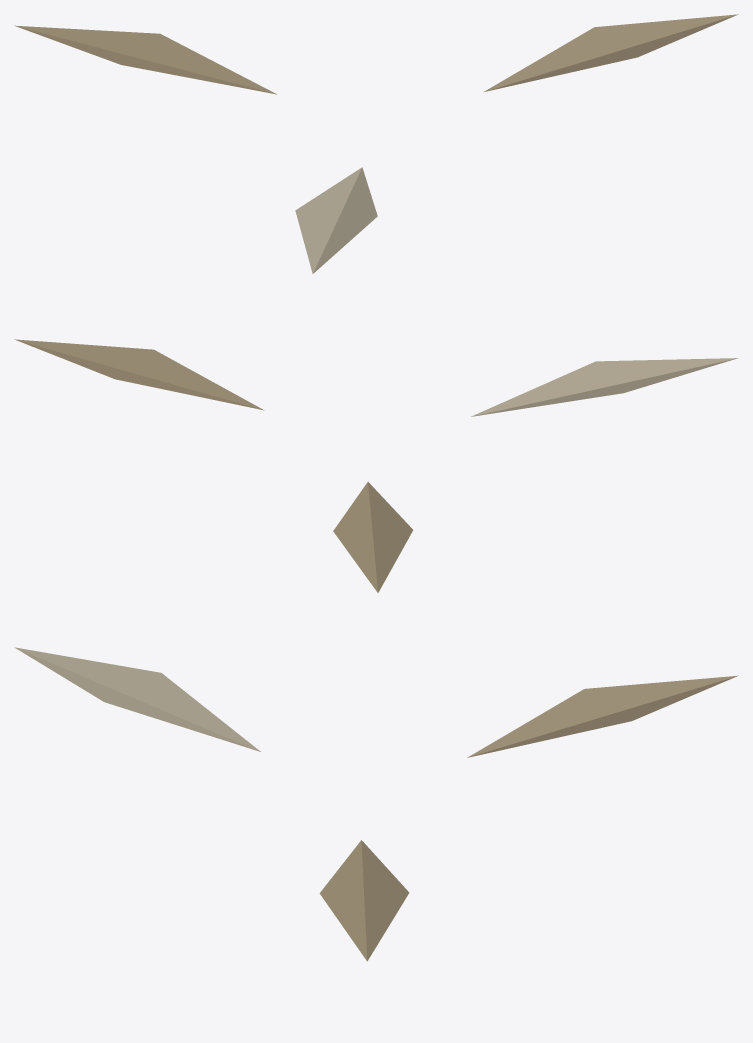
The model's file is cao.dixue@withered__winter.glb.
3 renders of one model, top to bottom at view 1: azimuth 30°, elevation 25°; view 2: azimuth 150°, elevation 25°; view 3: azimuth 270°, elevation 25°, orthographic. The views are drawn at different scales.
Parts seen in each view (by area): view 1: cao.dixue@withered__winter; view 2: cao.dixue@withered__winter; view 3: cao.dixue@withered__winter.
Boxes of the visible parts, bbox=[...] form: cao.dixue@withered__winter: bbox=[14, 14, 738, 273]; cao.dixue@withered__winter: bbox=[14, 339, 738, 592]; cao.dixue@withered__winter: bbox=[14, 647, 738, 961].
Size of the model in its own units: 0.414 by 0.0615 by 0.37.
